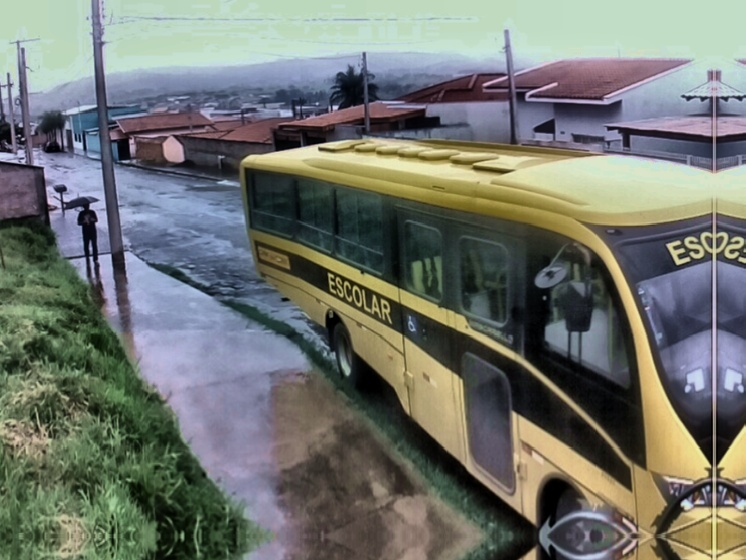person: (77, 202, 102, 266)
